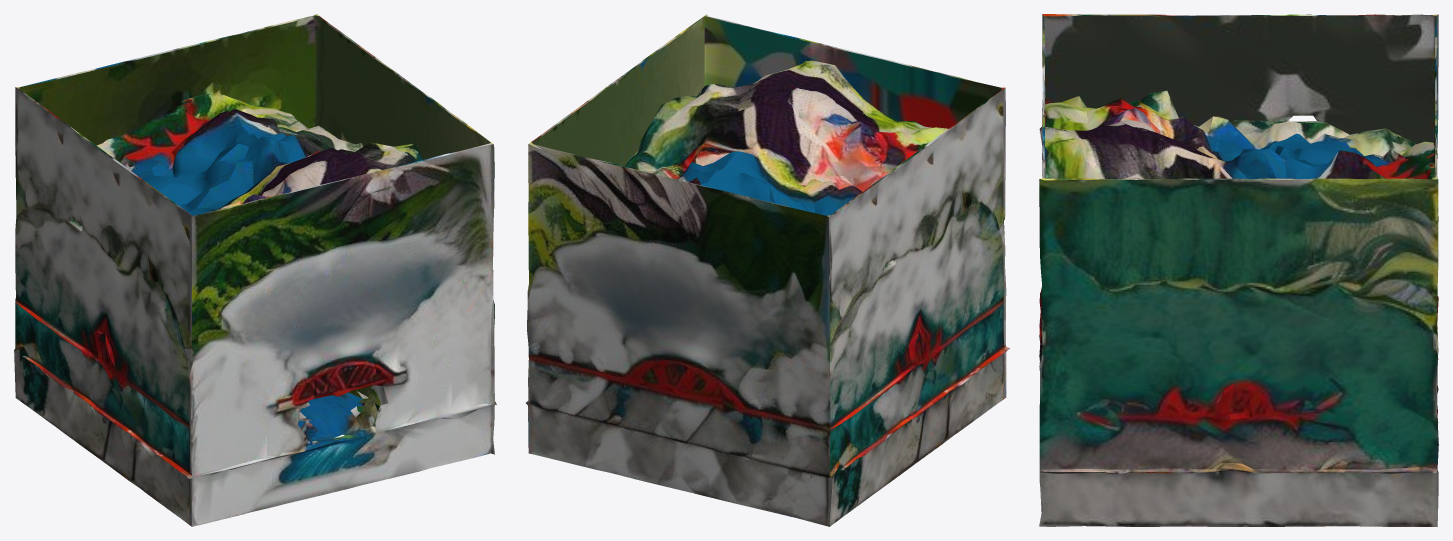
The model's file is lake-shikotsu.glb.
3 renders of one model, left to right at view 1: azimuth 30°, elevation 25°; view 2: azimuth 150°, elevation 25°; view 3: azimuth 270°, elevation 25°, orthographic. The views are drawn at different scales.
Visible parts, largest first — view 1: logan-textured.obj; view 2: logan-textured.obj; view 3: logan-textured.obj.
Part boxes in pixels (left/top/right/bottom): logan-textured.obj: left=14, top=14, right=496, bottom=526; logan-textured.obj: left=526, top=14, right=1009, bottom=526; logan-textured.obj: left=1039, top=14, right=1438, bottom=526.
Bounding box in the file's own units: 1 × 0.9613 × 0.9992.
1 material, 1 textured.
